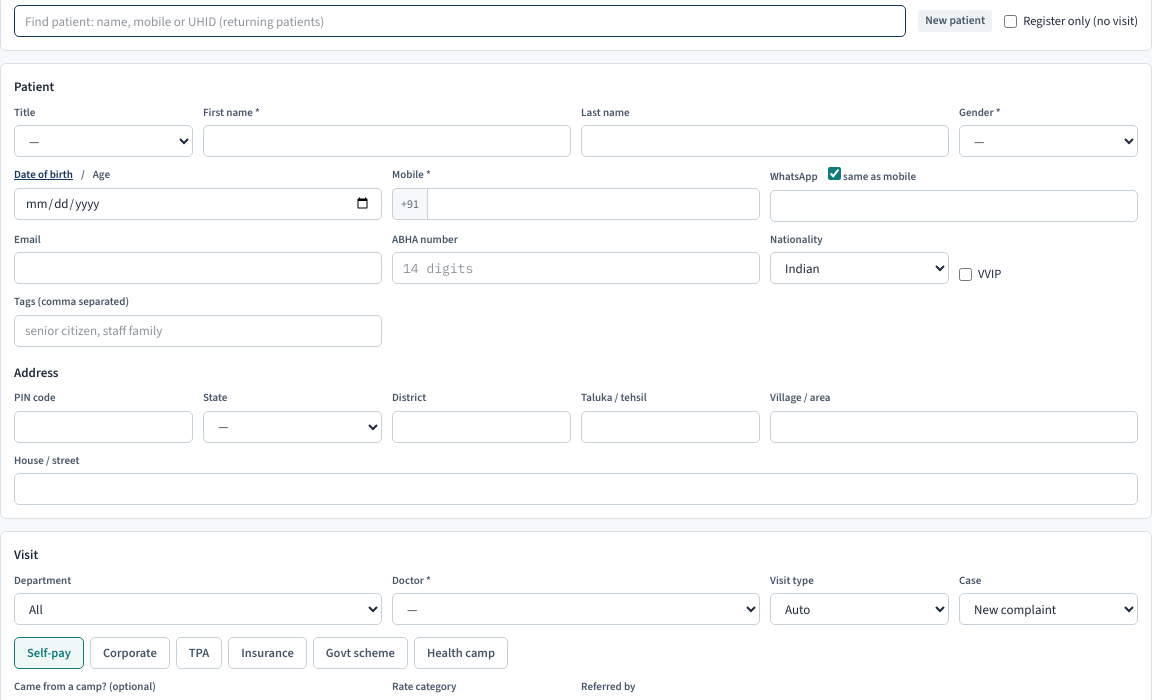
Scenario: OPDRegistrationPage › only offers credit for payers the hospital allows
Select "Dr. Mehta · Medicine" in the dropdown labelled "Doctor *" at (576, 609), box [392,593,760,625]
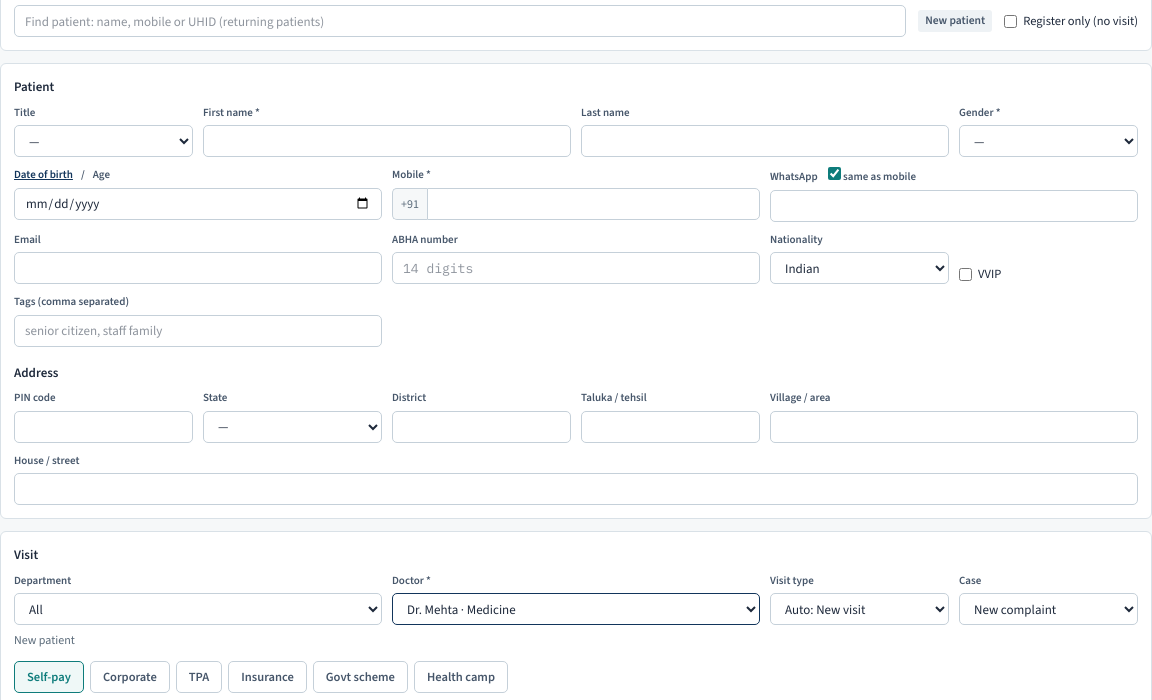
Click the radio button labelled "Corporate".
click(130, 677)  # box [90,661,170,693]
(page scrolled)
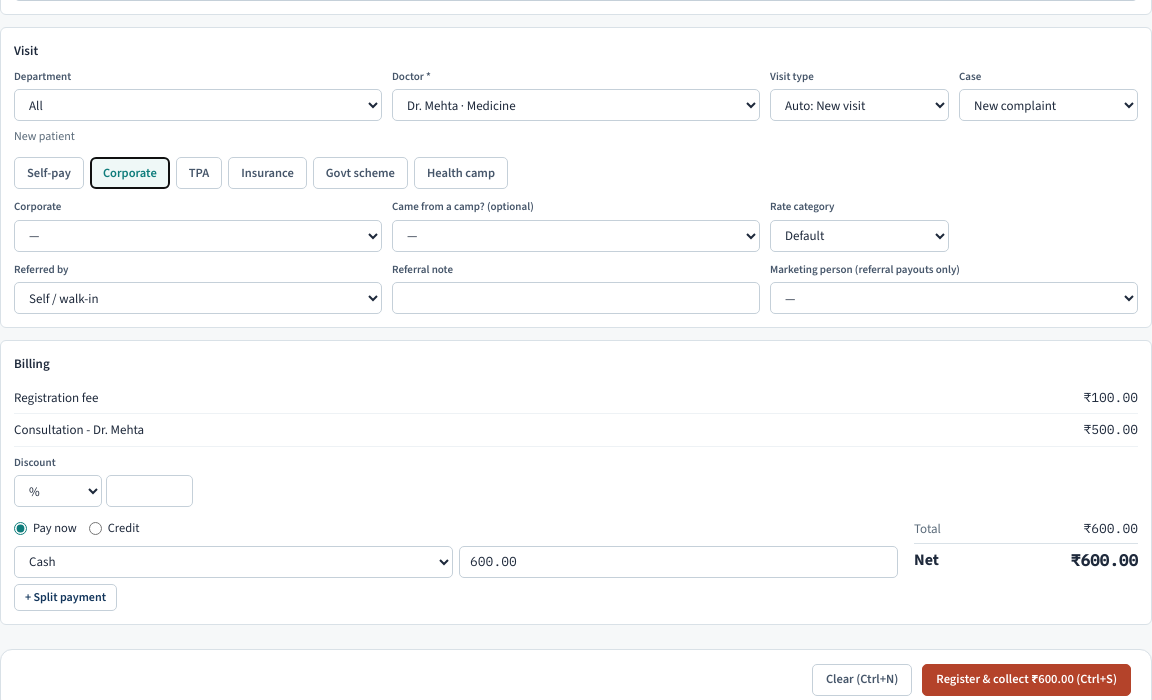
expect the radio button labelled "Credit" is enabled: met, box [89,522,102,535]
